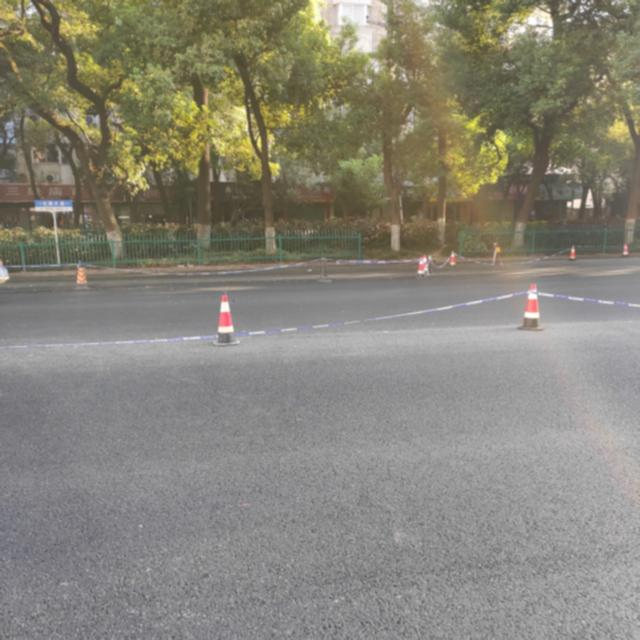pole: (52, 212, 61, 264)
reflective_cone: (210, 295, 242, 346), (517, 283, 546, 330), (73, 264, 90, 290), (316, 258, 332, 282), (415, 256, 427, 278), (447, 250, 458, 268), (422, 254, 430, 275), (568, 245, 578, 261), (621, 243, 631, 257)
